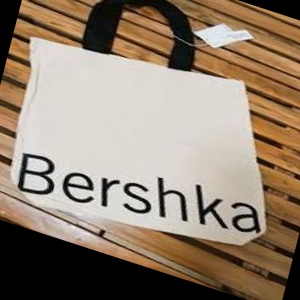bershka: (3, 57, 300, 300)
